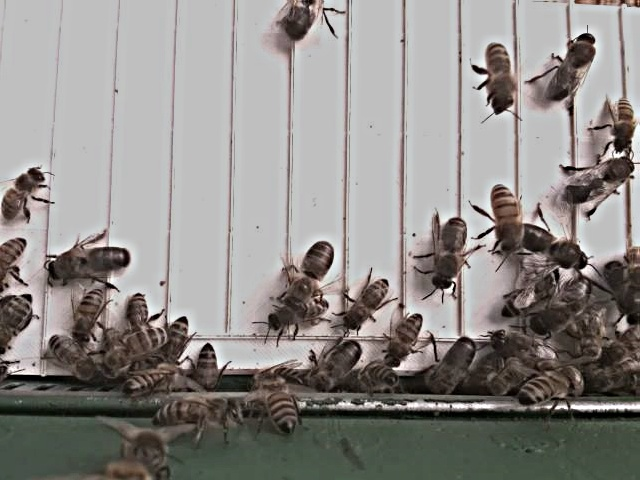Drone: (526, 272, 600, 336), (559, 153, 640, 204), (283, 238, 337, 312), (548, 28, 599, 103), (46, 242, 134, 283), (522, 221, 592, 271), (429, 213, 472, 290), (310, 335, 366, 392), (428, 332, 478, 394), (604, 256, 640, 324)
Worker: (517, 362, 589, 403), (106, 321, 169, 365), (1, 163, 48, 220), (48, 332, 100, 381), (343, 275, 391, 328), (490, 179, 522, 254), (484, 39, 518, 107), (0, 291, 35, 352), (262, 375, 298, 433), (386, 310, 426, 361), (72, 287, 106, 344), (610, 95, 638, 152)
